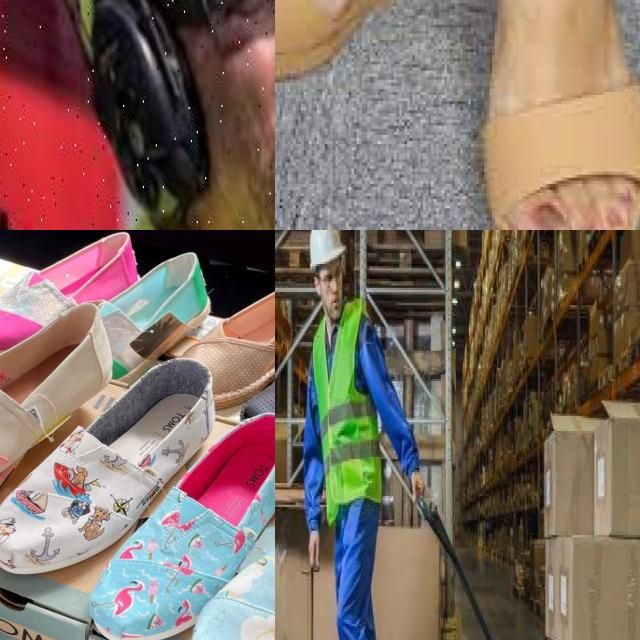Ear-protection: (88, 0, 205, 210)
Sandals: (0, 338, 217, 594), (44, 401, 275, 640), (488, 0, 640, 230), (0, 286, 138, 524), (178, 439, 275, 640), (275, 0, 481, 83)
face_nomask: (317, 268, 351, 325)
hand_noglove: (404, 444, 429, 518), (306, 522, 324, 592)
head_helmet: (307, 230, 345, 270)
person: (293, 230, 413, 640)
vest: (311, 298, 382, 516)
